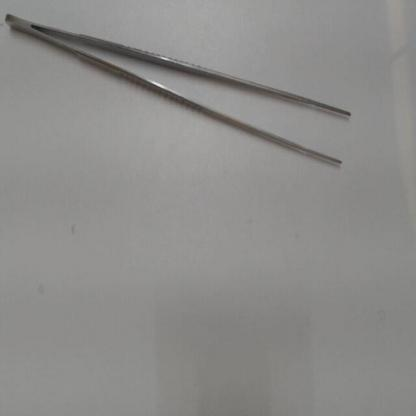DeBakey Dissector: (2, 4, 377, 200)
